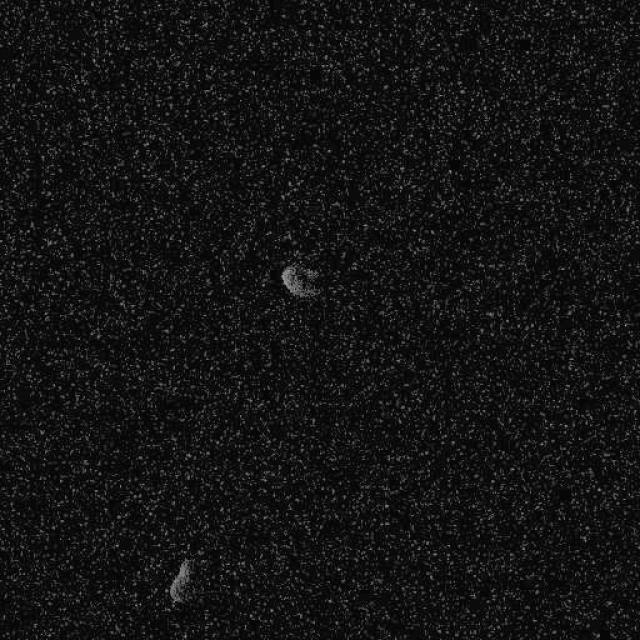D2: (280, 262, 321, 298), (168, 557, 192, 605)
